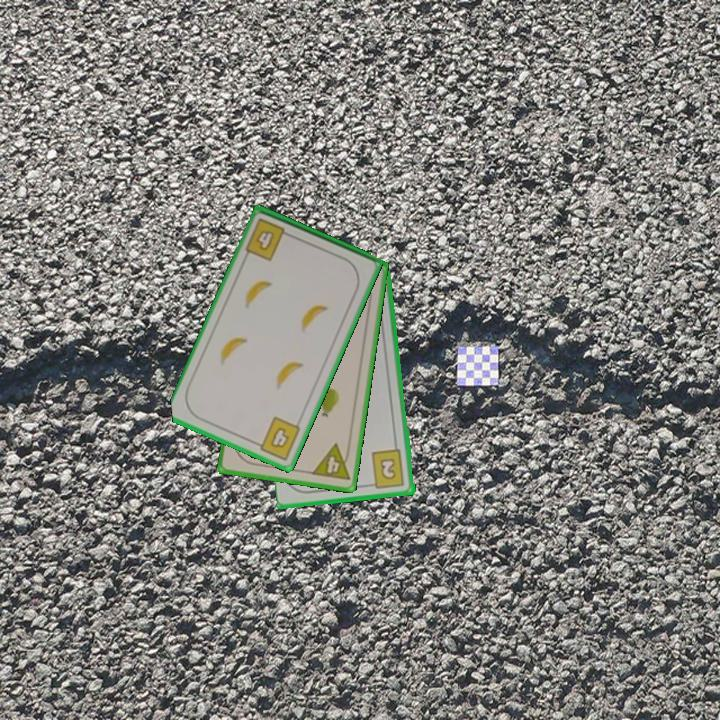2b: (366, 447, 407, 491)
4b: (250, 413, 304, 463), (242, 215, 295, 264)
4p: (308, 440, 354, 484)
